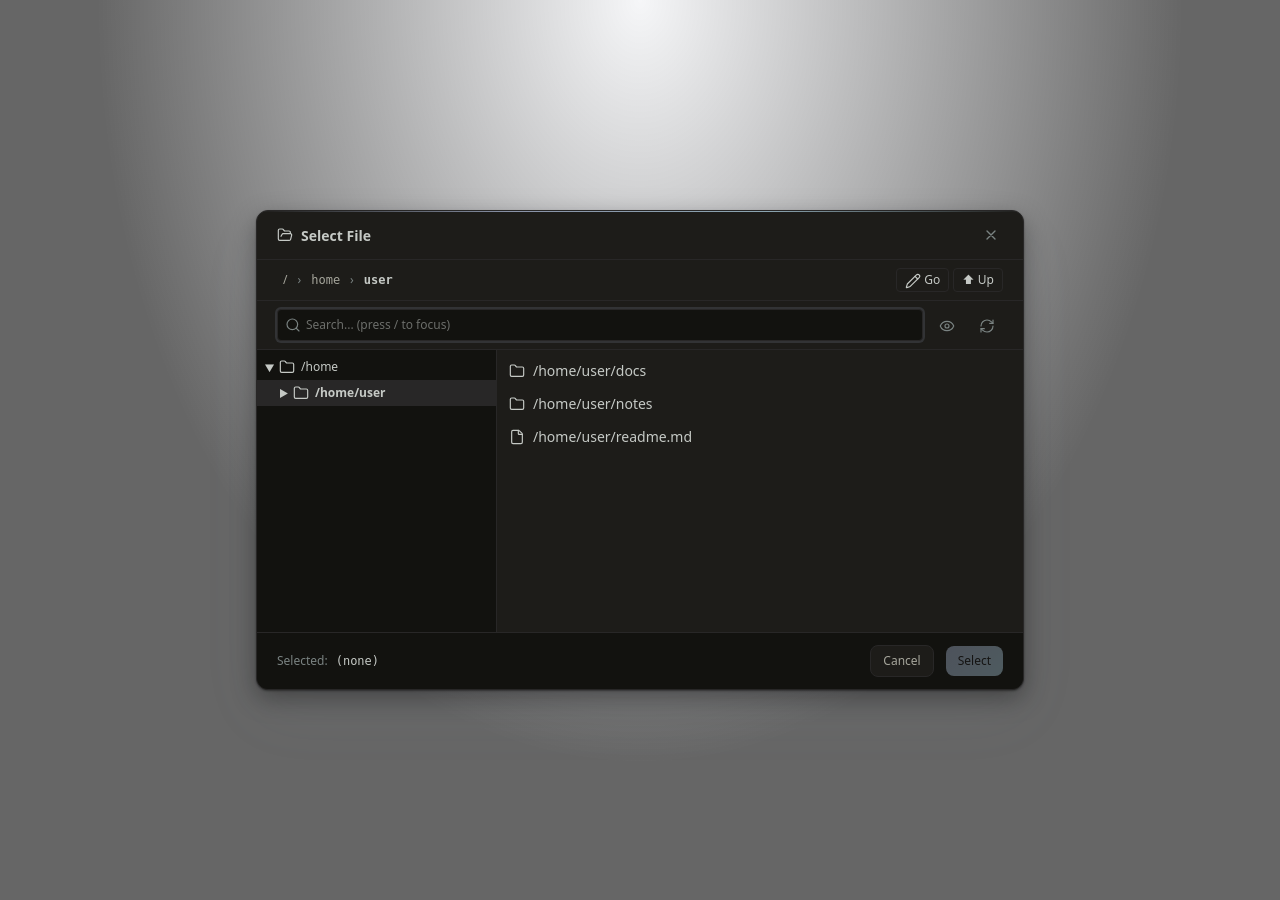
Test: FilePickerDialog — selection (file mode) › clicking a file in file mode selects it
This screenshot has width=1280, height=900.
Click the button with test id "file-picker-item-/home/user/readme.md" at [613, 436], box [497,420,1023,453]
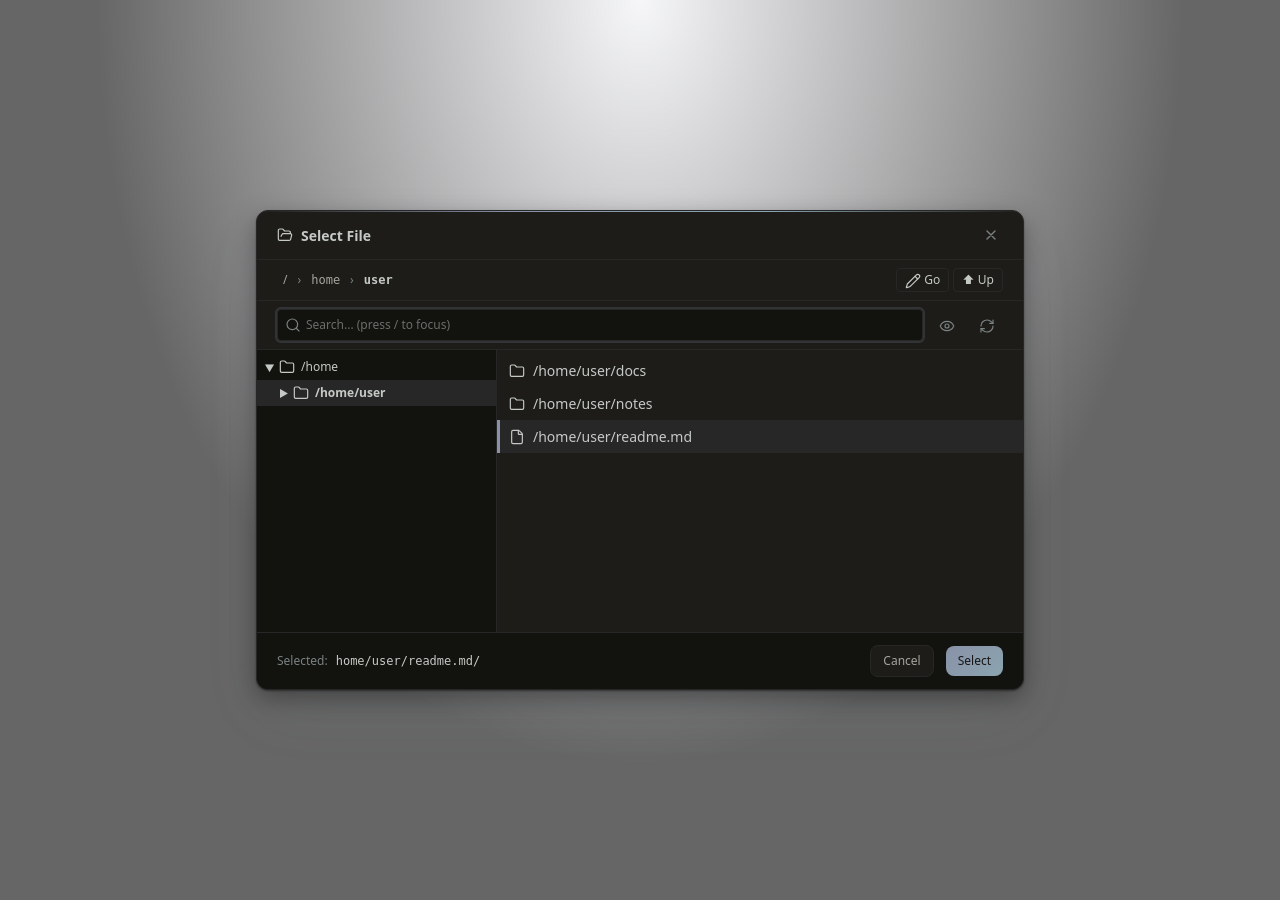
Expected: the text with test id "file-picker-selected-path" reads "/home/user/readme.md", [336,654,480,668]
